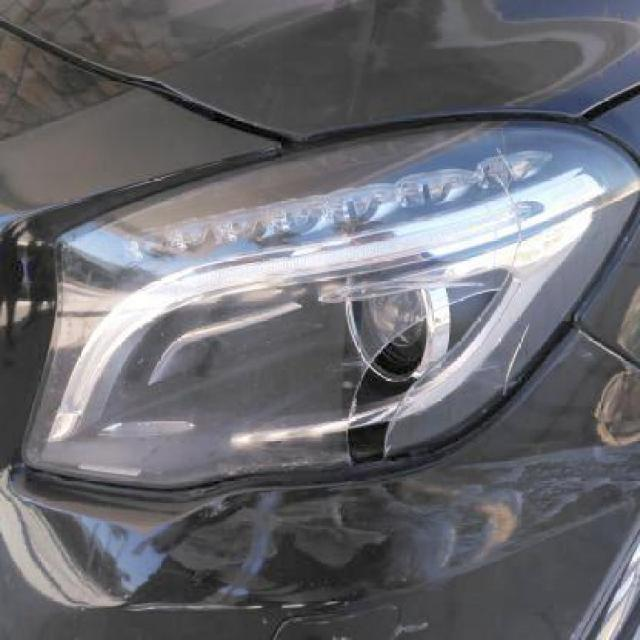car damage: (0, 344, 597, 386), (0, 140, 600, 156), (0, 0, 202, 43), (0, 514, 551, 517)
